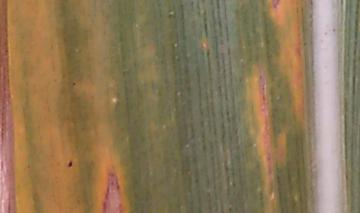tarspot: (66, 159, 75, 169), (71, 81, 77, 87)
